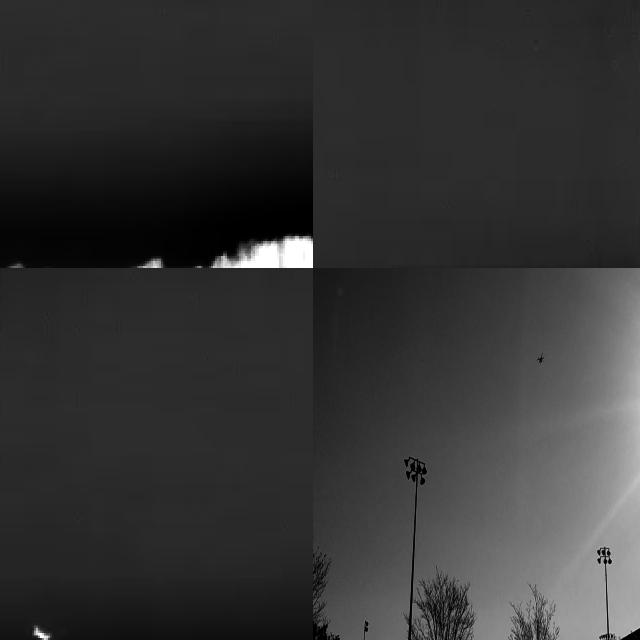1: (21, 623, 61, 640)
drone: (533, 344, 549, 367)
